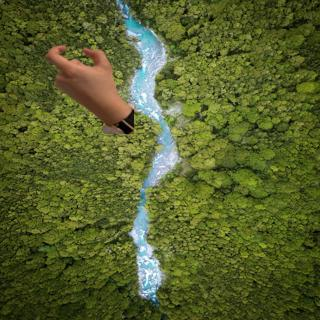HATE: (43, 40, 122, 113)
